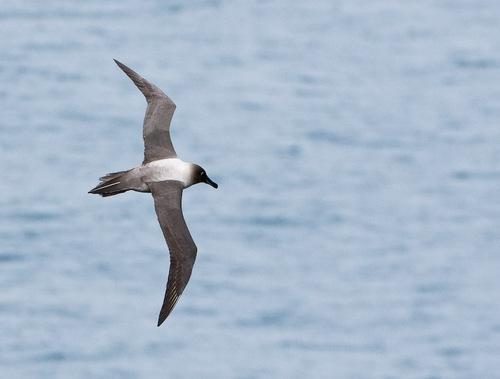bird: (88, 55, 220, 330)
